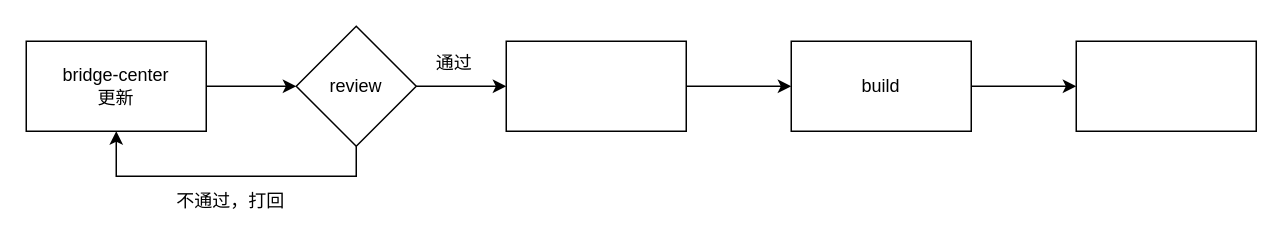
This 1283x251 diagram has some shape labels left out. Each missing label, with the box of its shape:
publish: (1075, 40, 1256, 131)
自动拉取最新的 brigde信息: (505, 40, 686, 131)
